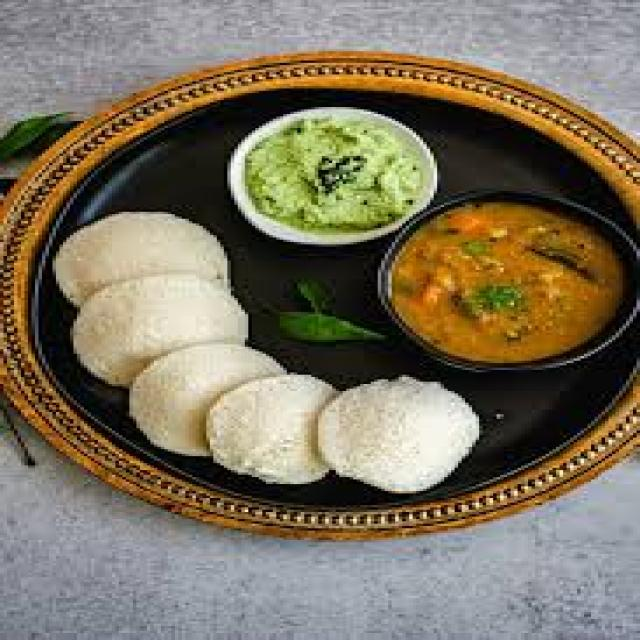chutney: (224, 102, 437, 230)
idli: (52, 193, 248, 335), (59, 266, 266, 394), (122, 335, 294, 459), (315, 368, 479, 496), (203, 366, 364, 486)
